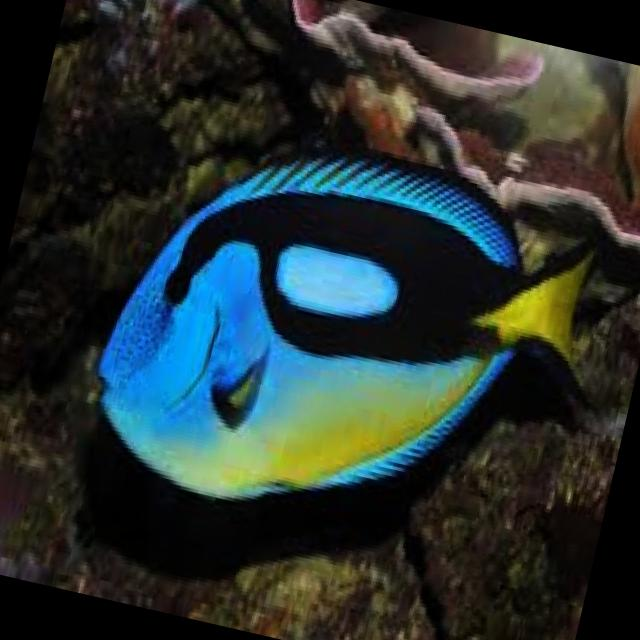TangFish: (65, 98, 620, 581)
